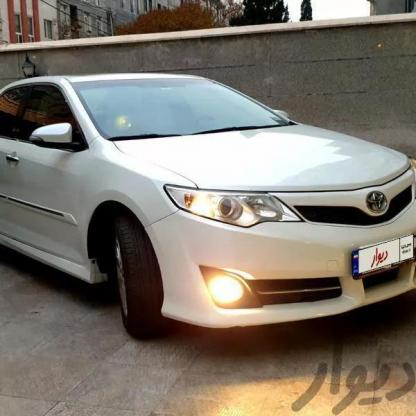Car: (0, 69, 416, 356)
